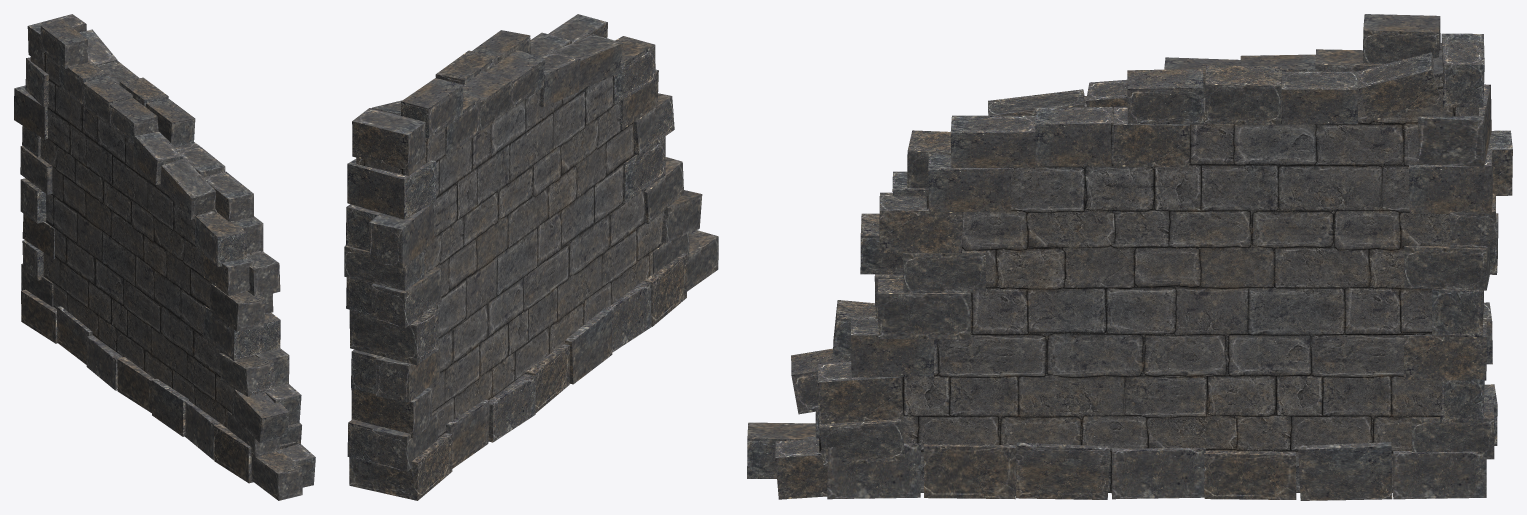
The model's file is Wall_02.fbx.
3 views of the same model, side by side, from view 1: azimuth 30°, elevation 25°; view 2: azimuth 150°, elevation 25°; view 3: azimuth 270°, elevation 25° (orthographic). The views are drawn at different scales.
Visible parts, largest first — view 1: StoneWall, StoneBricks; view 2: StoneWall, StoneBricks; view 3: StoneBricks, StoneWall.
Boxes of the visible parts, x1,y1,x2,y2 form: StoneWall: (14,14,315,500); StoneBricks: (30,31,297,448); StoneWall: (344,14,718,500); StoneBricks: (356,76,663,437); StoneBricks: (819,43,1478,492); StoneWall: (747,14,1512,500).
Size of what is drawn, in the model's own units: 45.22 by 231 by 356.
